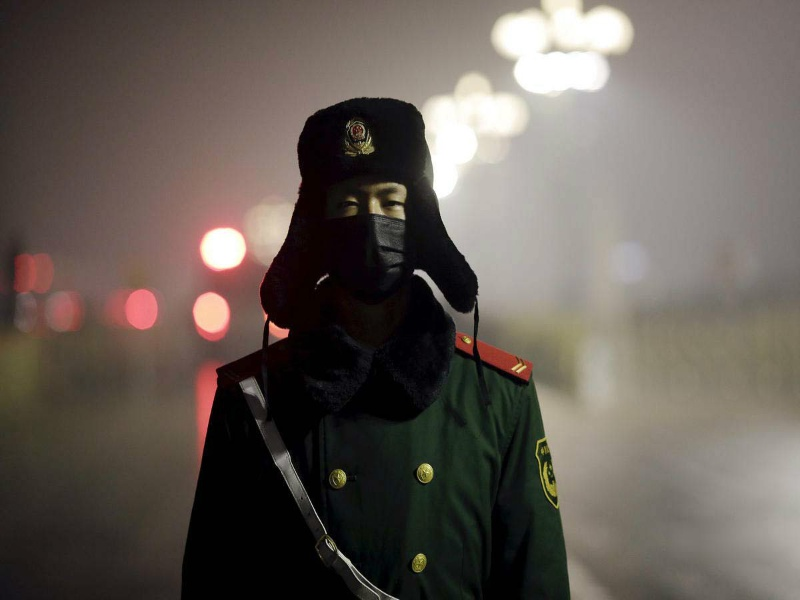mask: (292, 94, 444, 304)
